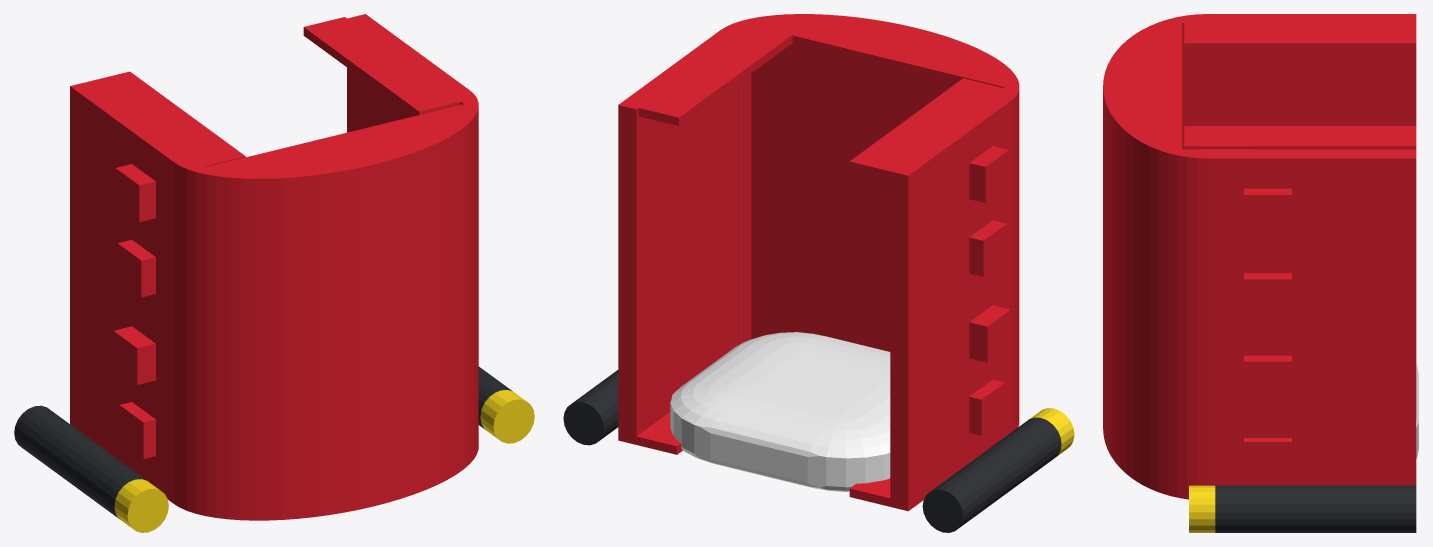
Rendered from amazon.obj.
3 renders of one model, left to right at view 1: azimuth 30°, elevation 25°; view 2: azimuth 150°, elevation 25°; view 3: azimuth 270°, elevation 25°, orthographic. The views are drawn at different scales.
Visible parts, largest first — view 1: group_0_15277357, group_0_2829873, group_0_16768282; view 2: group_0_15277357, group_0_16448250, group_0_2829873, group_0_16768282; view 3: group_0_15277357, group_0_2829873, group_0_16768282.
Part boxes in pixels (x1,y1,x2,y2): group_0_15277357: [70, 14, 478, 520]; group_0_2829873: [14, 366, 512, 519]; group_0_16768282: [114, 390, 534, 532]; group_0_15277357: [618, 14, 1019, 511]; group_0_16448250: [670, 332, 890, 491]; group_0_2829873: [563, 370, 1061, 532]; group_0_16768282: [1030, 408, 1074, 456]; group_0_15277357: [1103, 14, 1416, 499]; group_0_2829873: [1215, 485, 1416, 532]; group_0_16768282: [1189, 485, 1215, 532].
Size of the model in its own units: 197 by 165 by 132.
